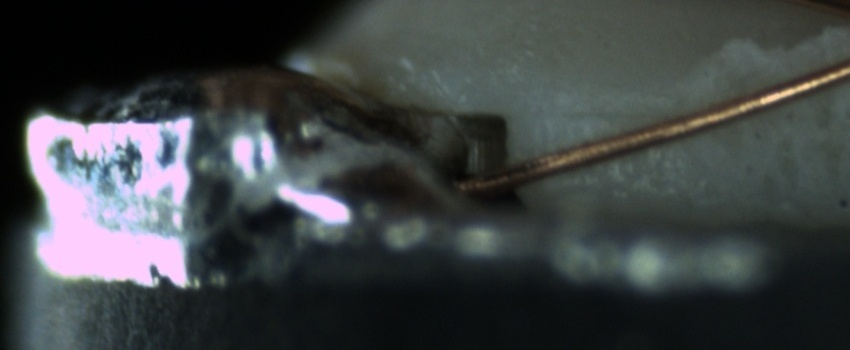DL: (538, 82, 672, 144)
